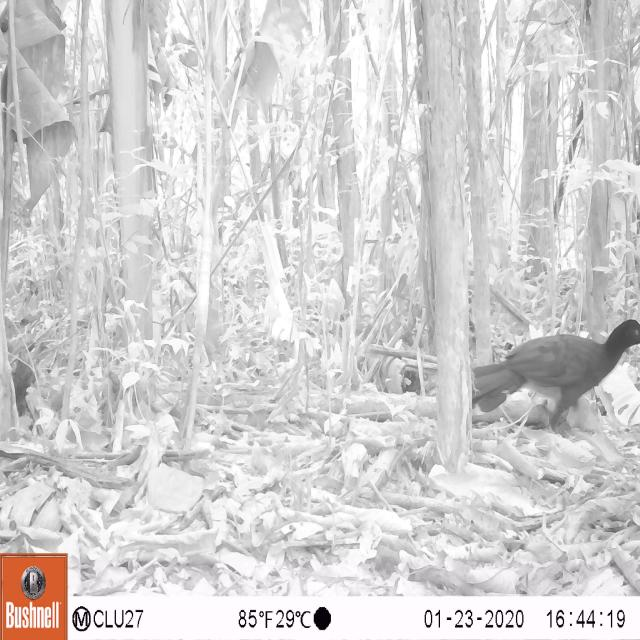Salvins Curassow: (455, 302, 640, 443)
